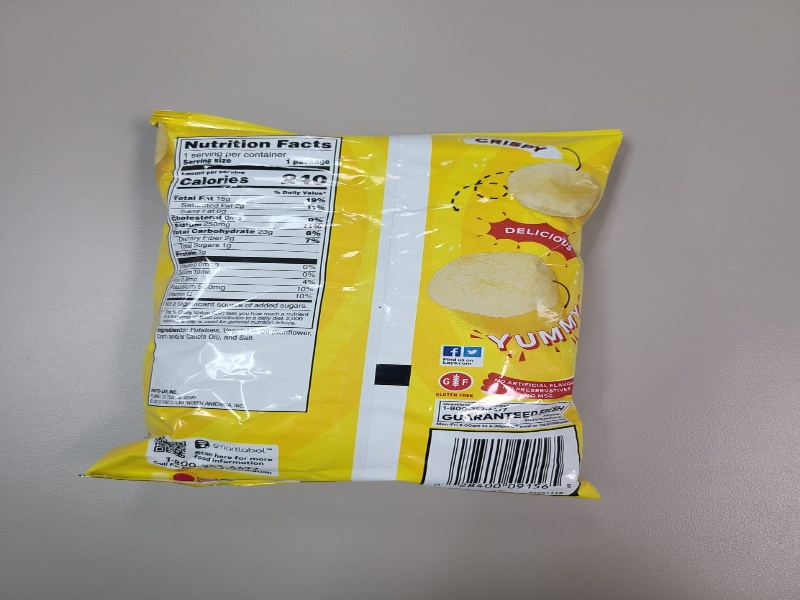lays: (77, 108, 626, 503)
